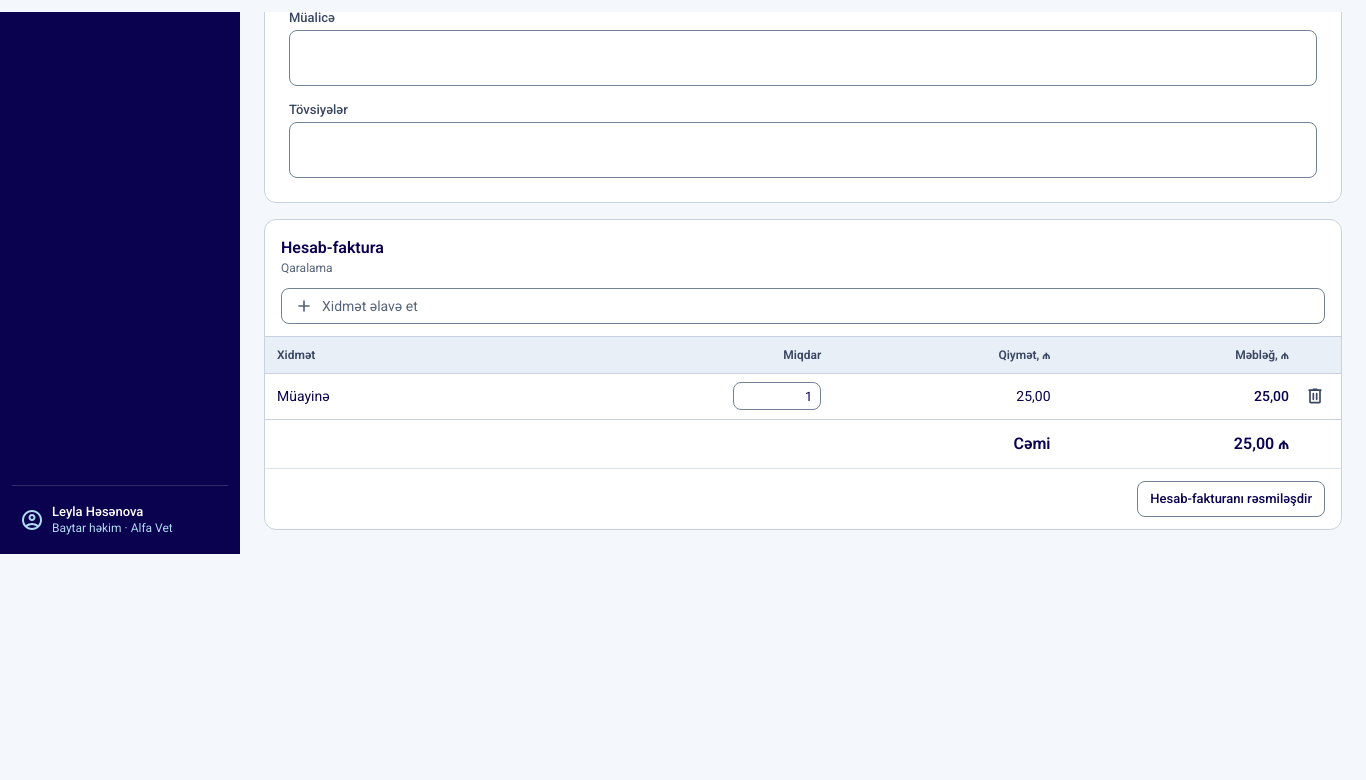
Test case: the invoice card on the visit page (#25, seam 3) › a change a colleague beat says so, and Refresh shows the invoice as it now stands
The image size is (1366, 780).
(page scrolled)
Expected: the table is shown, left=265, top=337, right=1341, bottom=468
Click the button named "Çıxar: Müayinə" at {"x": 1315, "y": 396}, box left=1301, top=382, right=1329, bottom=410
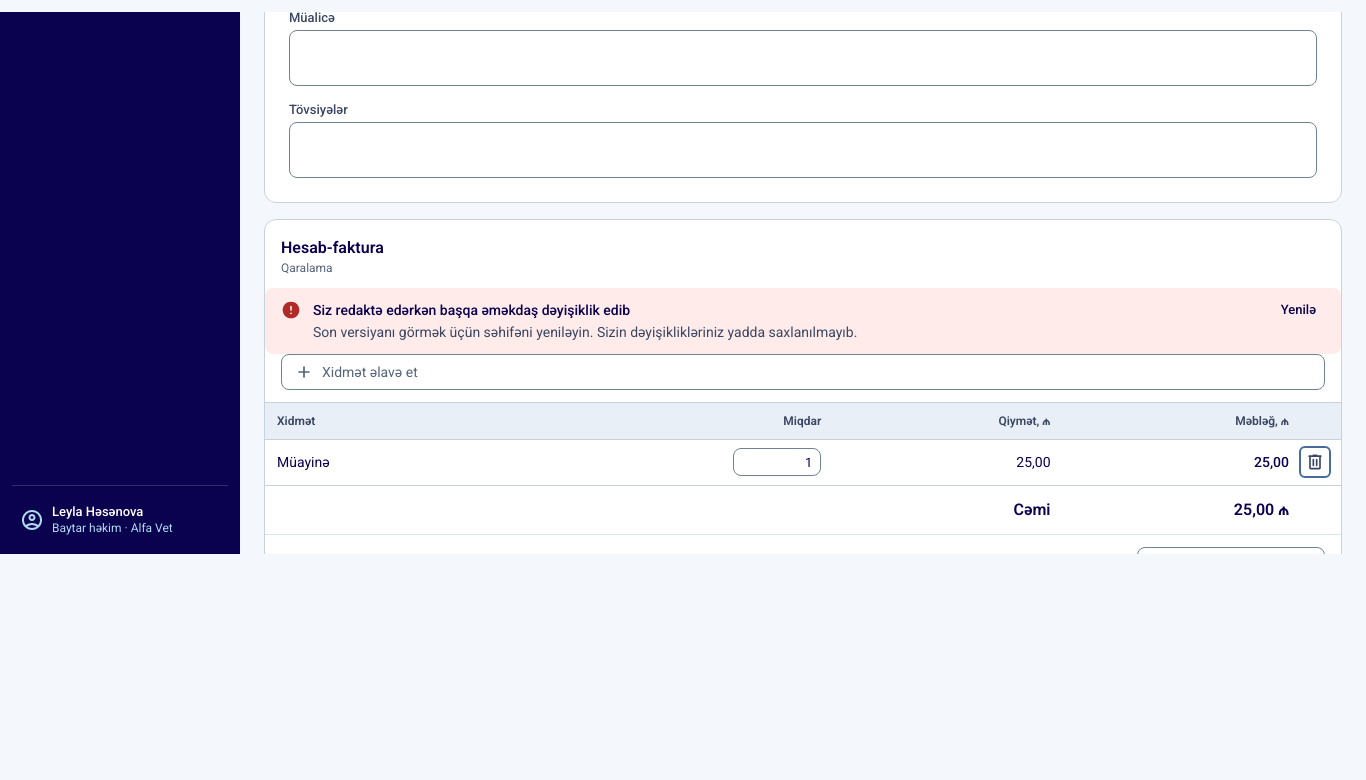
Expected: the text "Siz redaktə edərkən başqa əməkdaş dəyişiklik edib" is shown, left=313, top=302, right=630, bottom=318
Click the button "Yenilə" at {"x": 1298, "y": 310}, box left=1272, top=296, right=1325, bottom=324
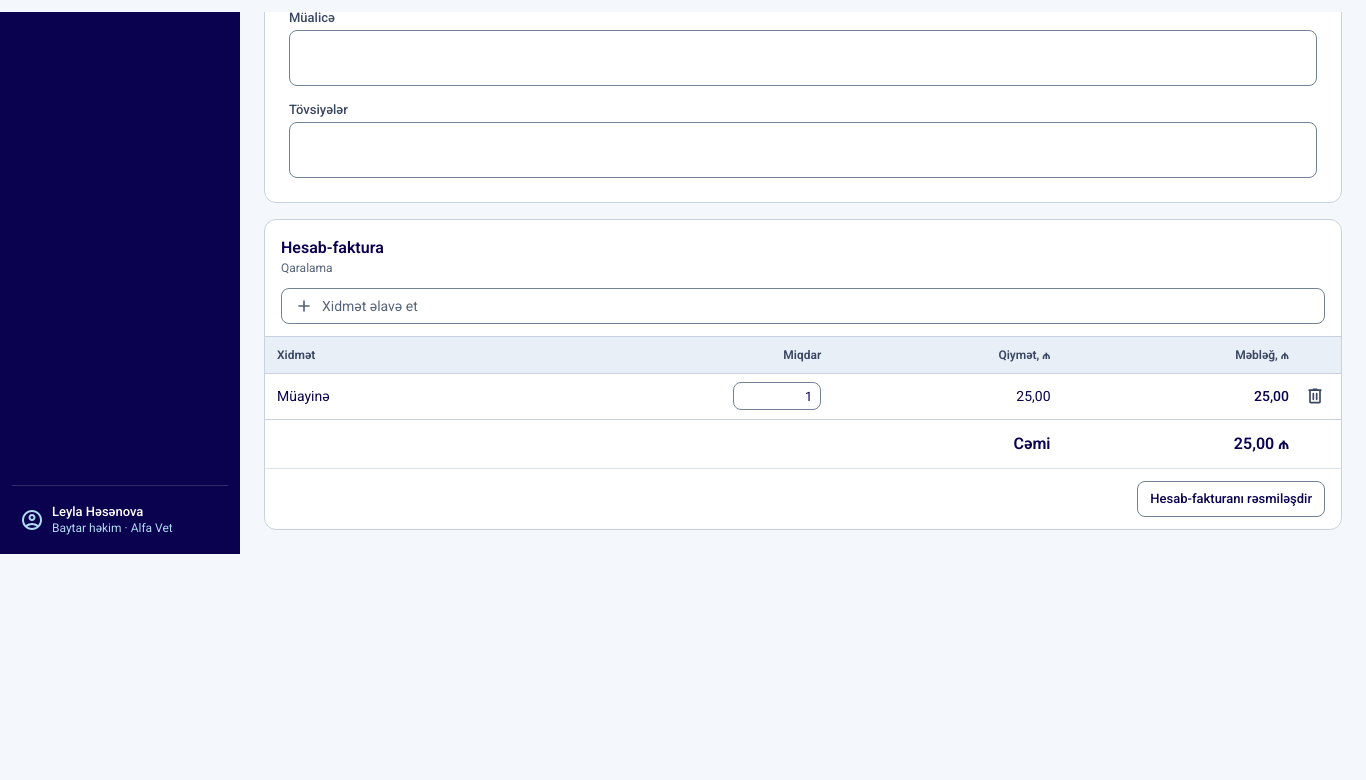
Expected: the text "Siz redaktə edərkən başqa əməkdaş dəyişiklik edib" is gone
